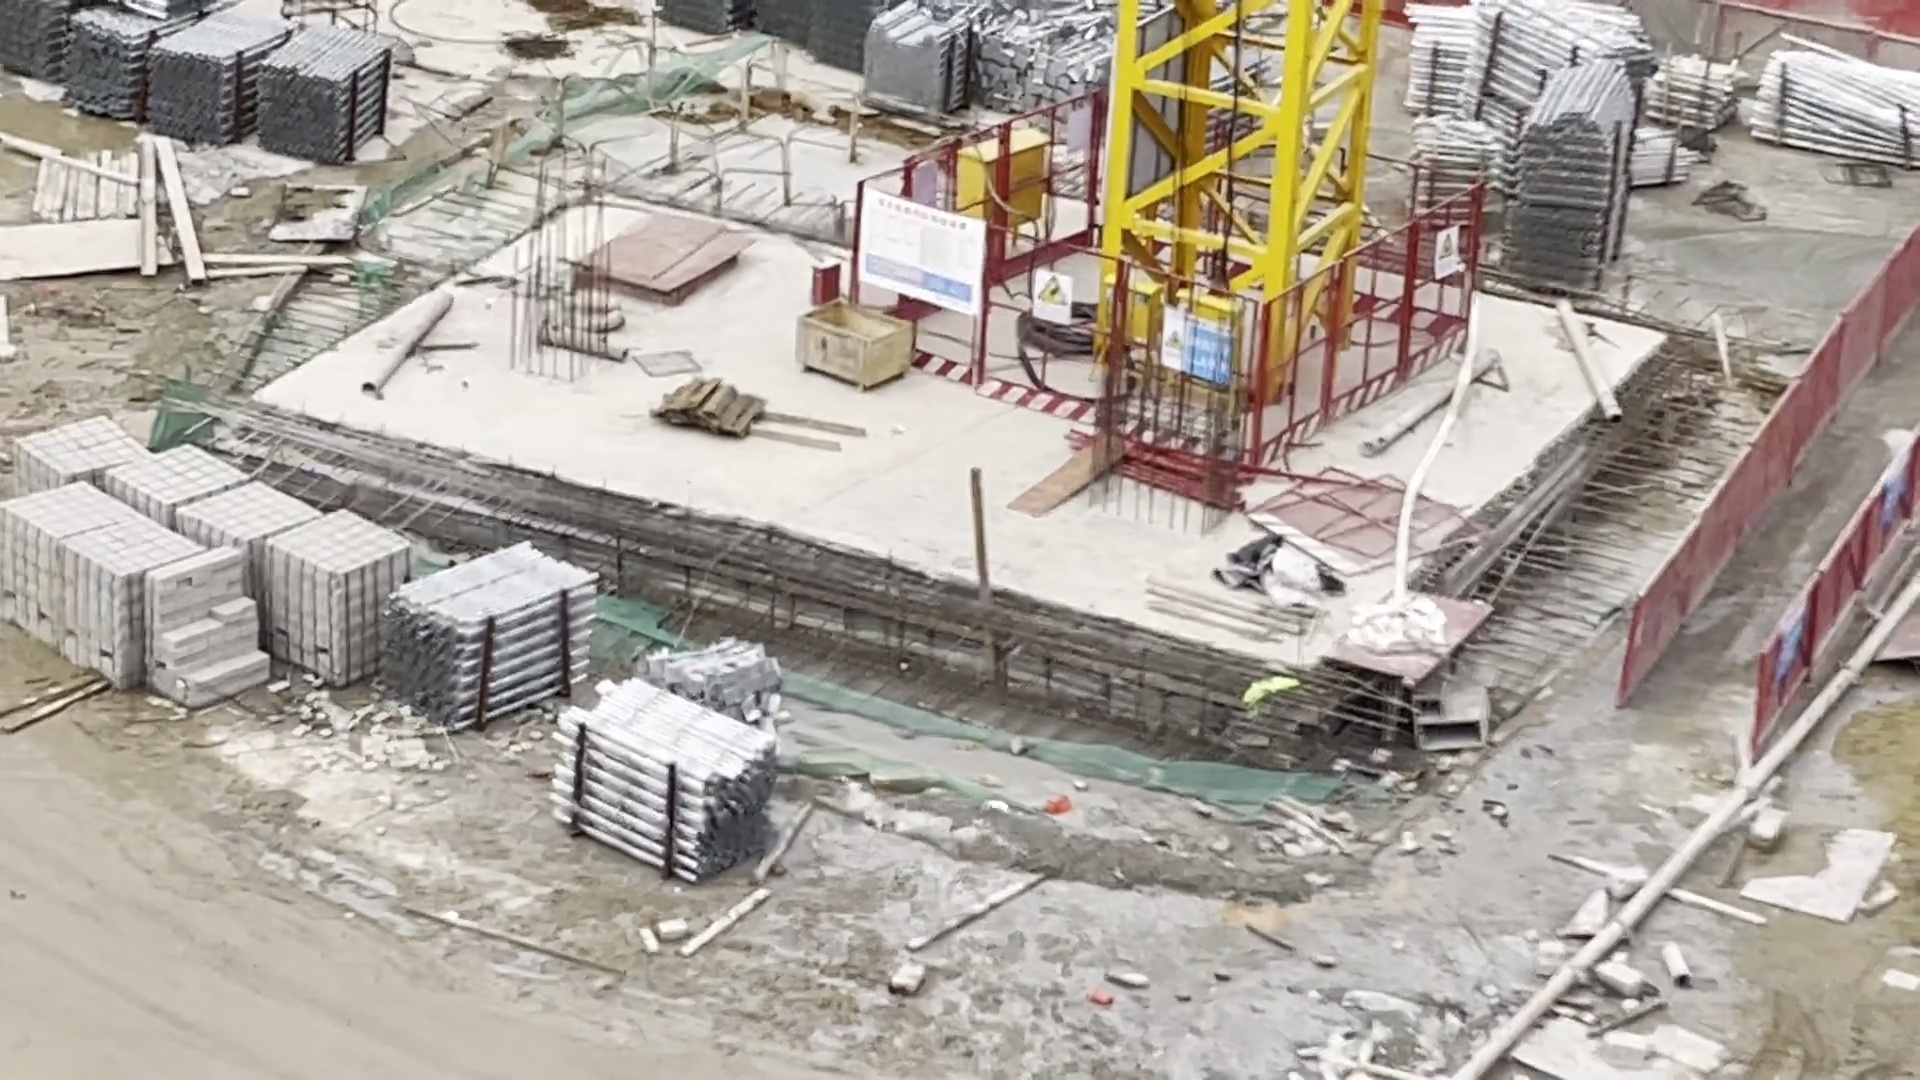brick: (3, 409, 407, 715)
ebox: (1081, 261, 1279, 407), (935, 119, 1064, 257)
fence: (837, 178, 1273, 484), (1614, 406, 1861, 800), (1251, 187, 1494, 473), (877, 80, 1104, 291), (1788, 223, 1920, 575)
hopper: (783, 291, 919, 400)
scaffold: (1404, 5, 1920, 295), (1, 4, 404, 167), (641, 3, 1112, 141), (535, 673, 796, 905), (392, 535, 600, 731)
slogan: (840, 187, 984, 326), (1760, 595, 1818, 716), (1153, 305, 1232, 392), (1019, 261, 1080, 331), (1419, 227, 1472, 295)
